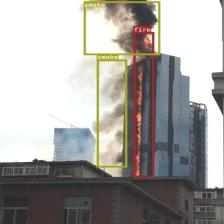fire: (133, 32, 153, 177)
smoke: (83, 1, 160, 55), (96, 59, 127, 167)
